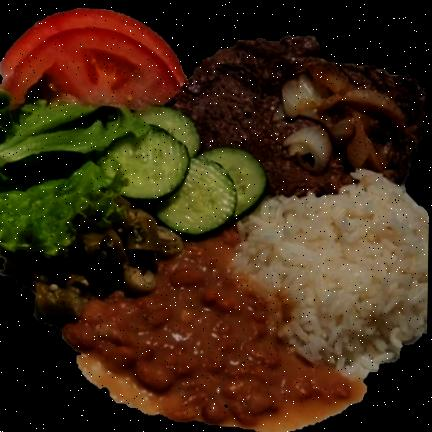beans: (64, 229, 355, 430)
cucumber: (105, 106, 267, 236)
meat: (173, 36, 425, 195)
rice: (233, 170, 429, 378)
salad: (0, 90, 148, 259)
tomato: (1, 8, 187, 109)
